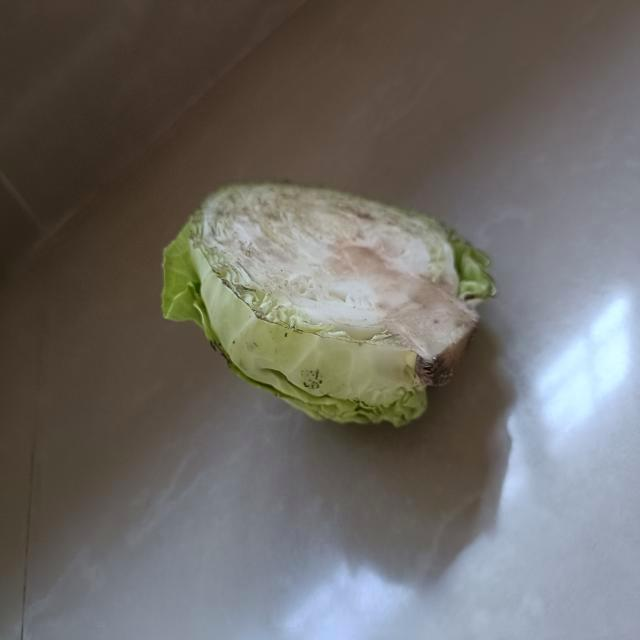cabbage: (181, 177, 478, 424)
